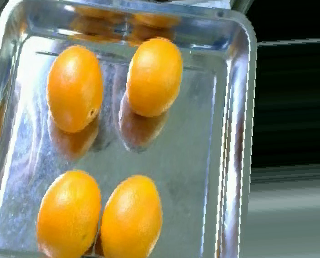Orange: (36, 168, 102, 257), (100, 173, 163, 257), (46, 43, 103, 132), (125, 37, 182, 118)
